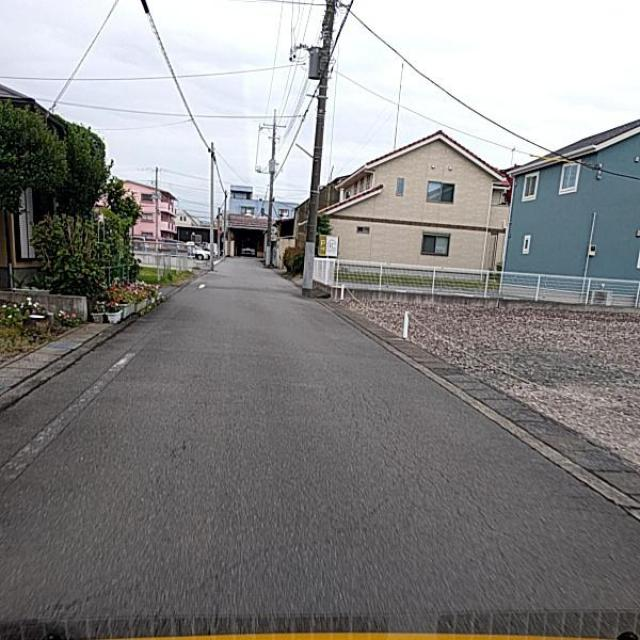Crack: (311, 352, 531, 590)
